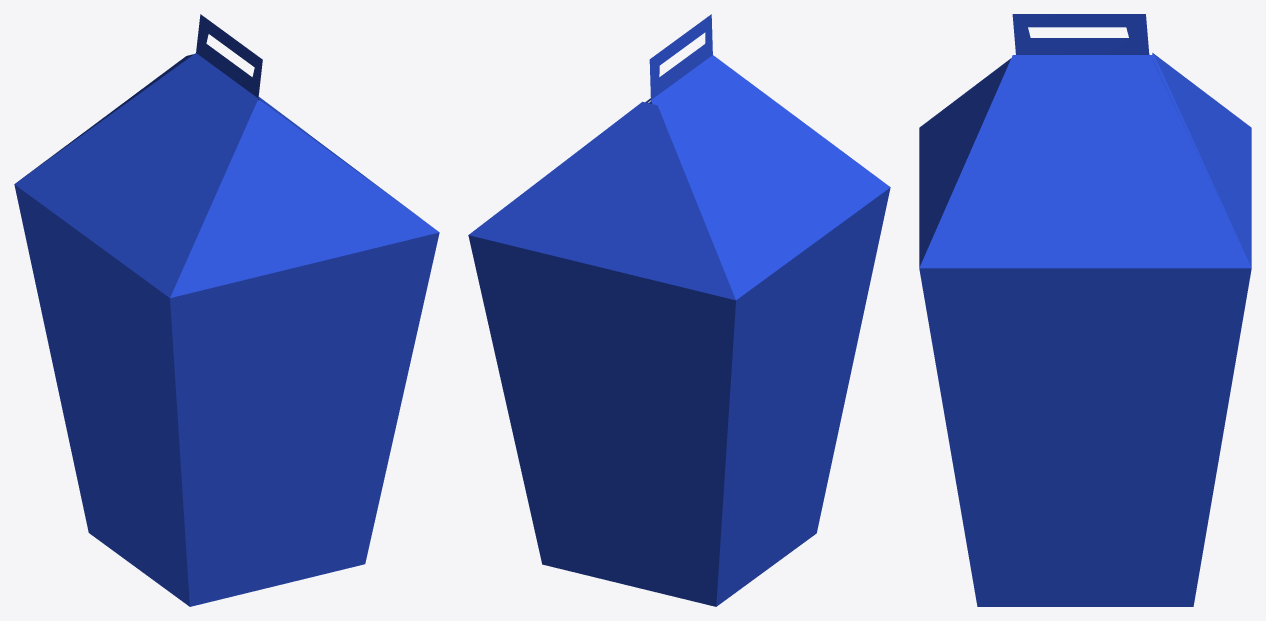
The picture shows the model from 3 angles, left to right: view 1: azimuth 30°, elevation 25°; view 2: azimuth 150°, elevation 25°; view 3: azimuth 270°, elevation 25°; orthographic projection. The views are drawn at different scales.
Parts seen in each view (by area): view 1: Cube; view 2: Cube; view 3: Cube.
Boxes of the visible parts, x1=… form: Cube: x1=14, y1=14, x2=439, y2=606; Cube: x1=468, y1=14, x2=890, y2=606; Cube: x1=919, y1=14, x2=1251, y2=606.
Size of the model in its own units: 3.77 by 6.85 by 3.77.
